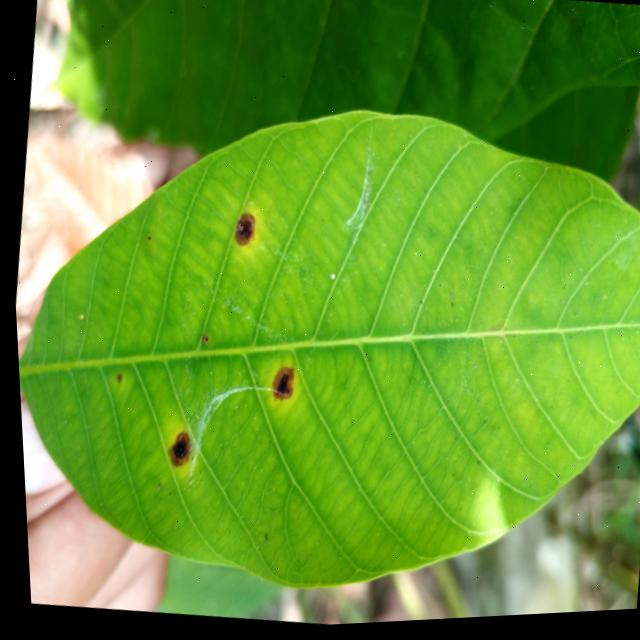Colletotrichum: (266, 366, 293, 403), (229, 213, 255, 250)
